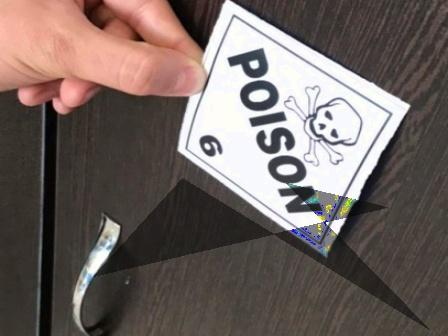poison: (189, 15, 392, 241)
